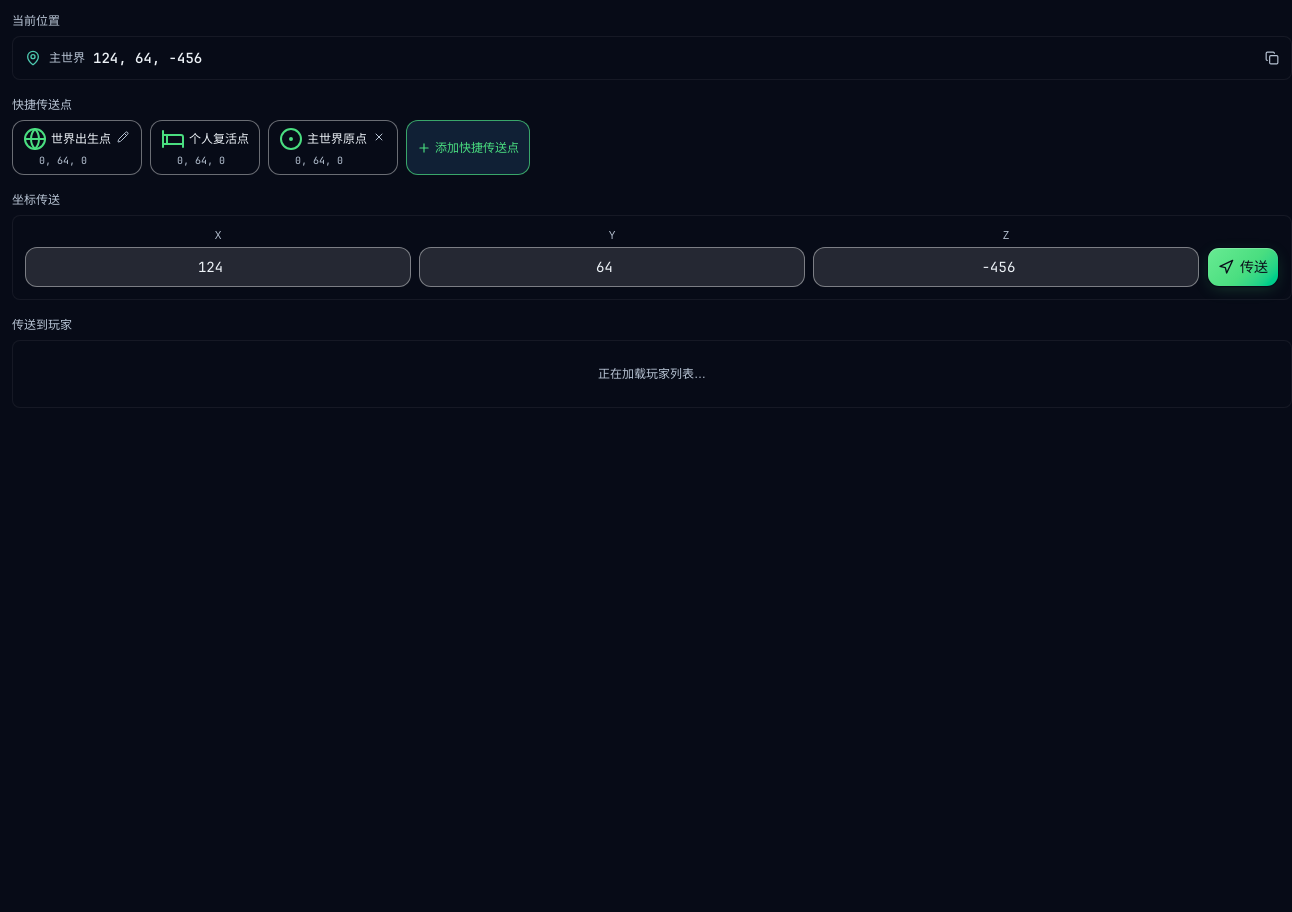
TeleportTab › 复制坐标按钮：写入剪贴板并 toast
Click the button named "复制坐标" at x=1272, y=58, box left=1265, top=51, right=1279, bottom=65
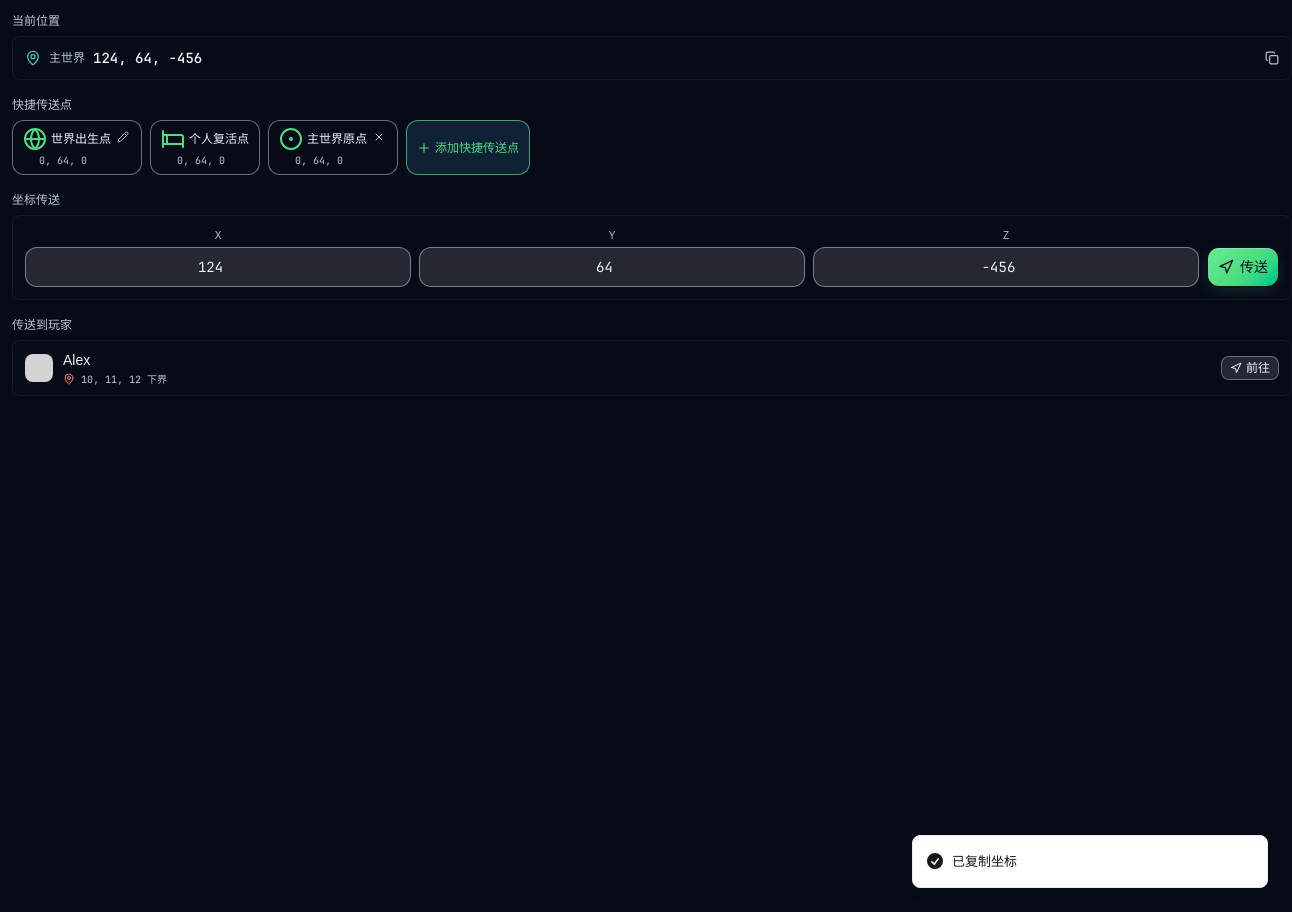
Now the text "已复制坐标" is shown, box left=952, top=852, right=1017, bottom=871
